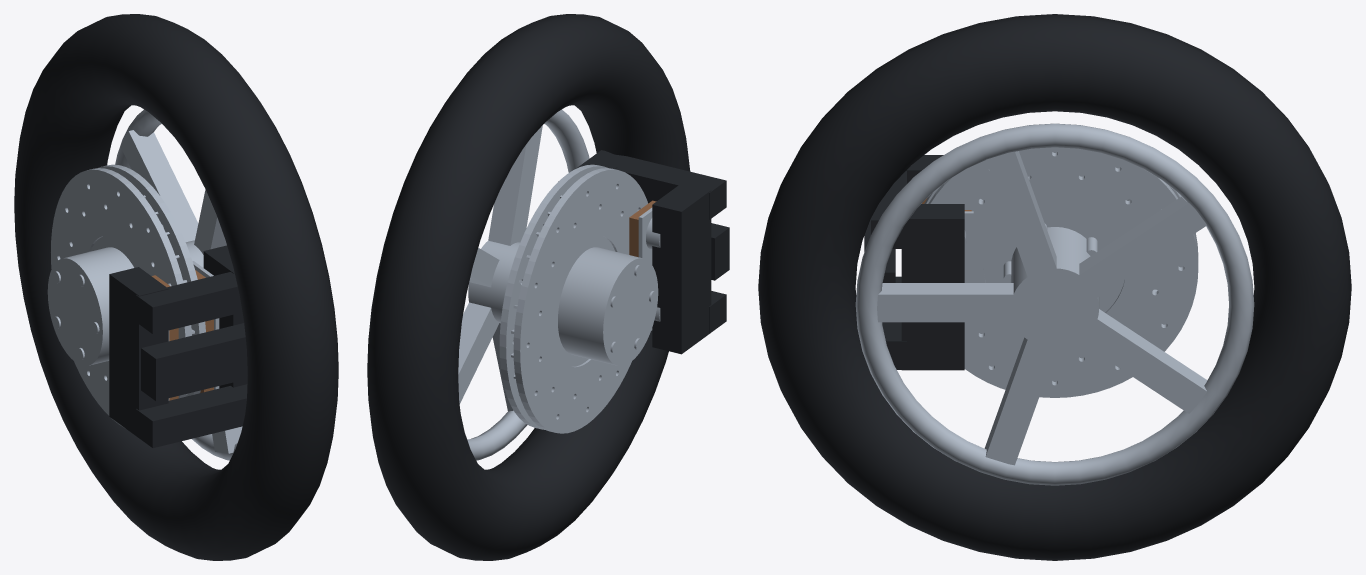
Rendered from brake.glb.
3 renders of one model, left to right at view 1: azimuth 30°, elevation 25°; view 2: azimuth 150°, elevation 25°; view 3: azimuth 270°, elevation 25°, orthographic. The views are drawn at different scales.
Parts seen in each view (by area): view 1: wheel, caliper, disc, hub, outer-pad; view 2: wheel, disc, caliper, hub, inner-pad; view 3: wheel, disc, caliper, outer-pad.
Boxes of the visible parts, <box> form: wheel: <box>14,14,338,560</box>; caliper: <box>109,245,247,447</box>; disc: <box>51,164,205,428</box>; hub: <box>47,247,133,365</box>; outer-pad: <box>192,261,219,392</box>; wheel: <box>367,14,690,560</box>; disc: <box>499,164,647,433</box>; caliper: <box>558,150,729,354</box>; hub: <box>558,247,658,365</box>; inner-pad: <box>629,200,656,330</box>; wheel: <box>758,14,1351,560</box>; disc: <box>924,147,1198,397</box>; caliper: <box>864,155,964,370</box>; outer-pad: <box>964,210,973,339</box>.
Bounding box in the file's own units: 0.209 × 0.658 × 0.658.
